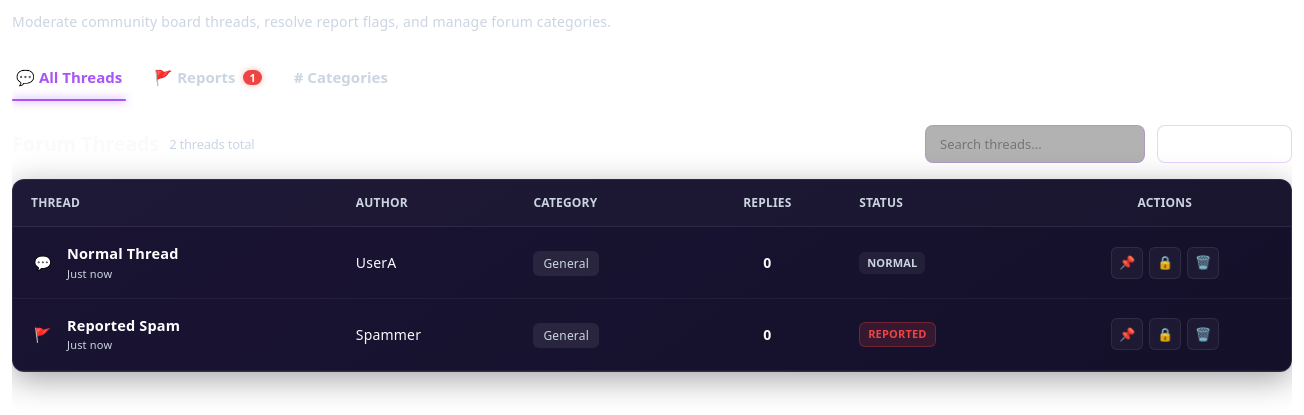
it: Forum Moderation - Testing Techniques › 1. Equivalence Class Partitioning (ECP): Search Filter › shows empty state for no-match search (Invalid EC)
Expected: the text "Normal Thread" is shown, [67, 243, 179, 264]
Type "Nonexistent Thread 12345" into the field with placeholder "Search threads...". click: (1035, 144)
box: [925, 125, 1145, 163]
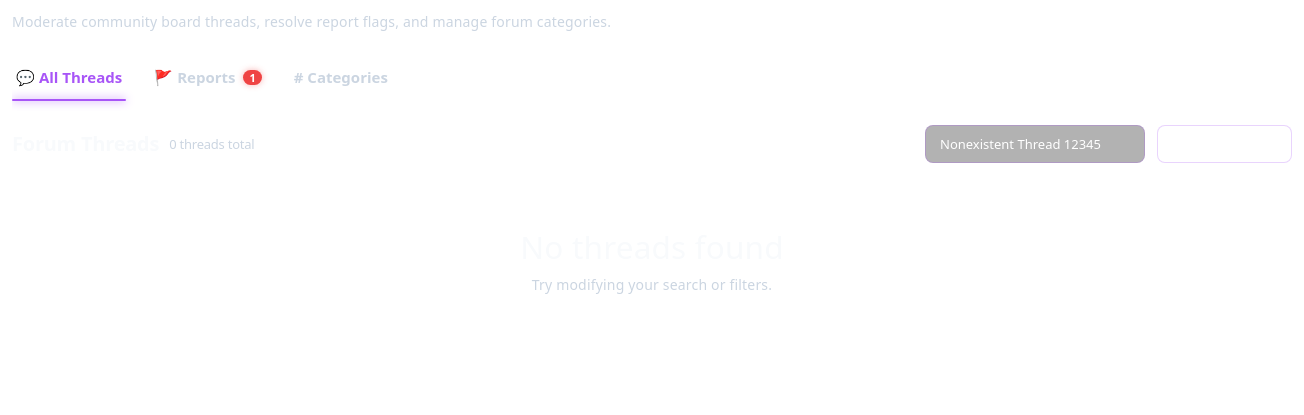
Now the text "Normal Thread" is gone
